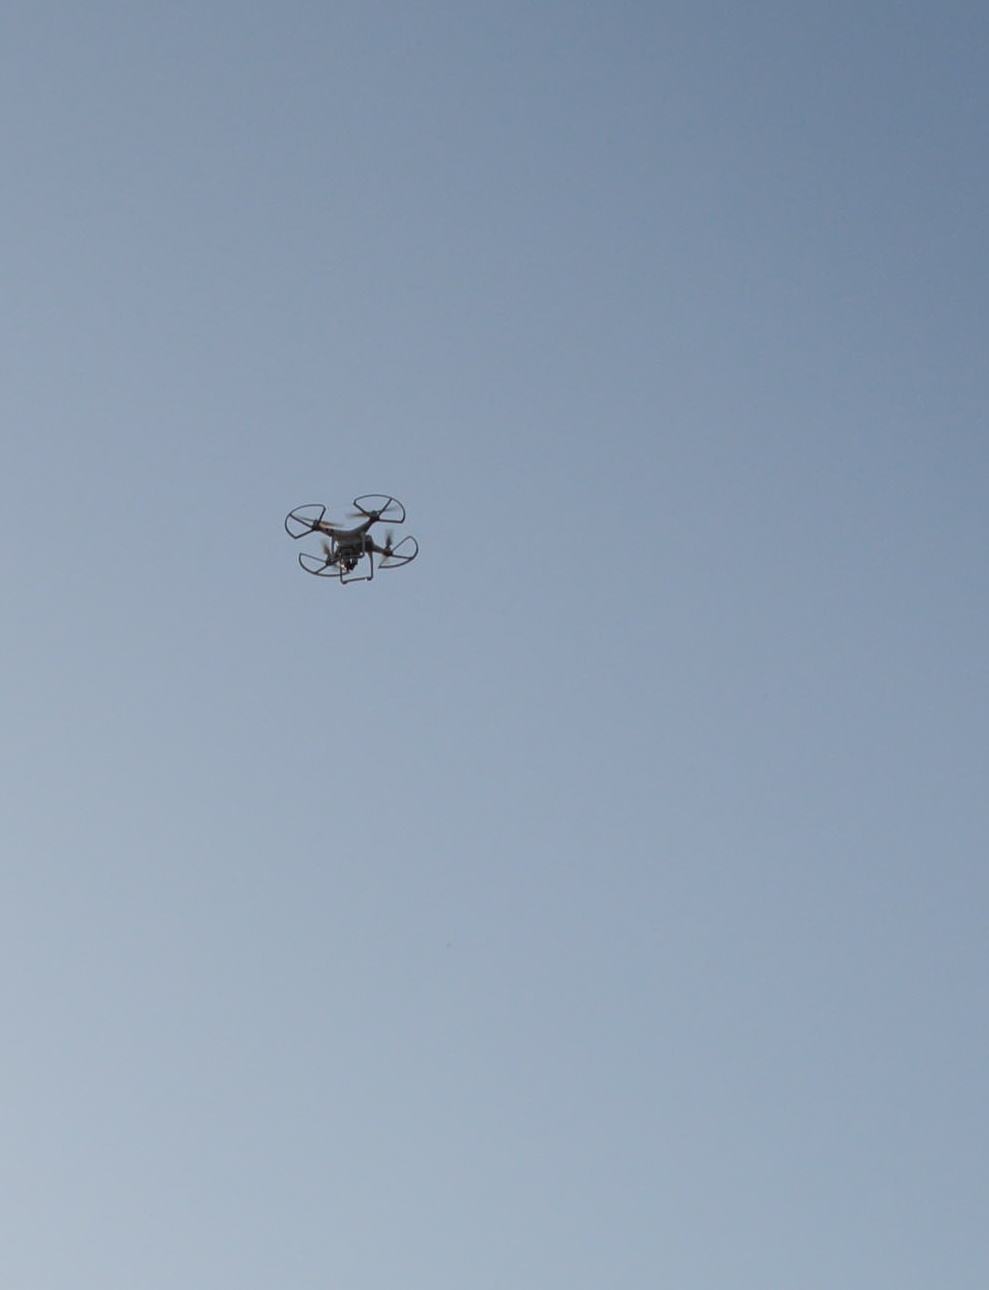DJI: (288, 498, 419, 587)
